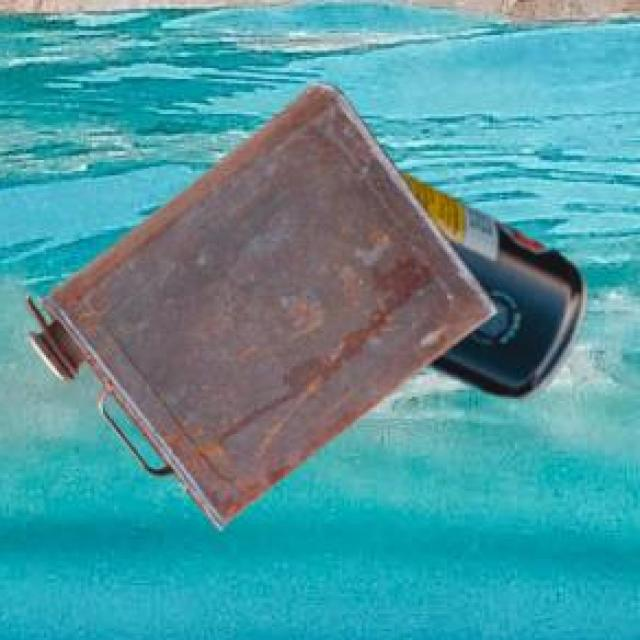logam: (23, 78, 494, 525), (399, 170, 584, 396)
